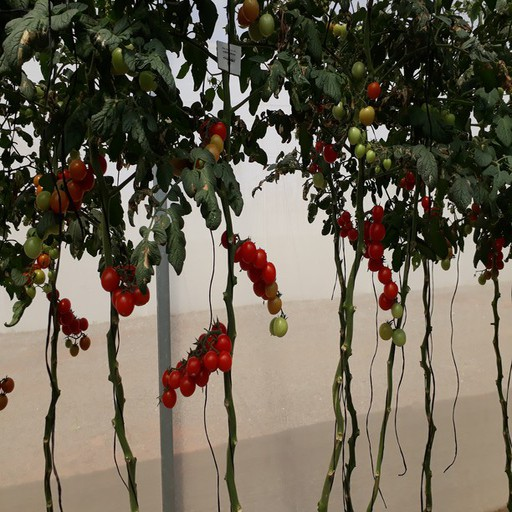green tomato bunch: (347, 126, 392, 173), (311, 142, 339, 171)
mixed tomato bunch: (5, 233, 62, 293), (34, 162, 94, 212), (194, 116, 225, 166)
red tomato bunch: (164, 318, 233, 411), (338, 205, 399, 309), (223, 233, 278, 304), (100, 260, 148, 315), (52, 296, 92, 359), (397, 169, 436, 215)
